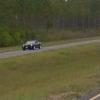Car: (21, 36, 51, 50)
